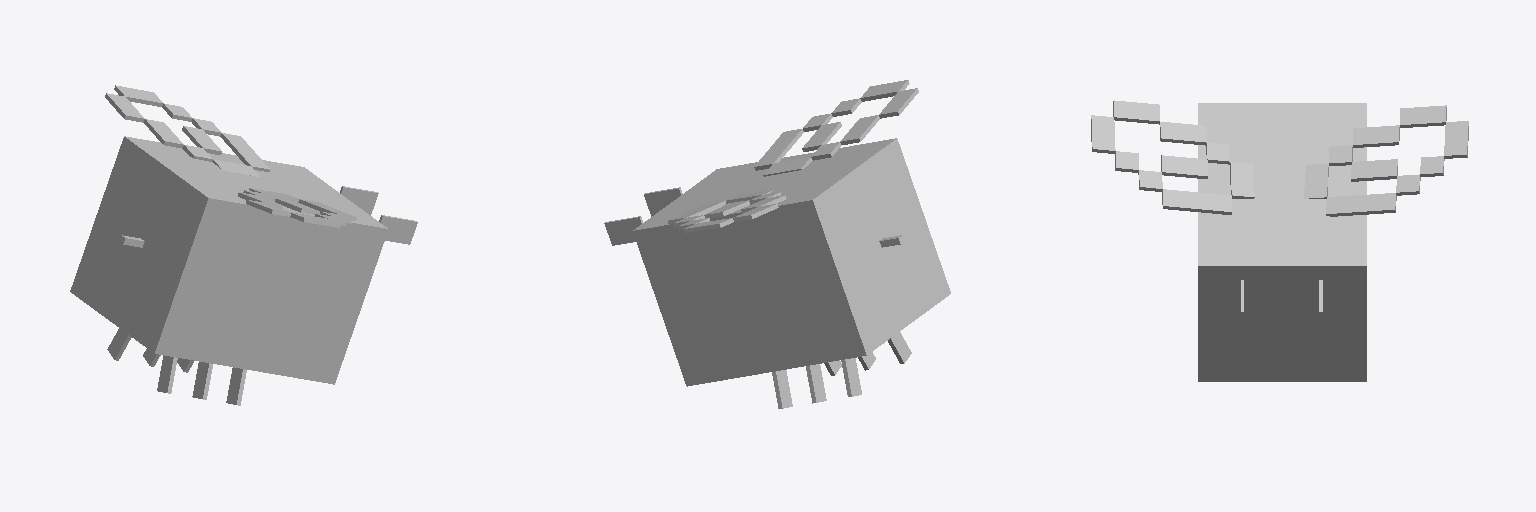
The model's file is Bee_ (234).obj.
3 renders of one model, left to right at view 1: azimuth 30°, elevation 25°; view 2: azimuth 150°, elevation 25°; view 3: azimuth 270°, elevation 25°, orthographic.
Parts seen in each view (by area): view 1: b_Bee_MAT_0, r_Bee_MAT_0, l_Bee_MAT_0; view 2: b_Bee_MAT_0, l_Bee_MAT_0, r_Bee_MAT_0; view 3: b_Bee_MAT_0, l_Bee_MAT_0, r_Bee_MAT_0.
Part boxes in pixels (left/top/right/bottom): b_Bee_MAT_0: left=70, top=136, right=417, bottom=405; r_Bee_MAT_0: left=105, top=85, right=269, bottom=176; l_Bee_MAT_0: left=238, top=188, right=356, bottom=227; b_Bee_MAT_0: left=604, top=138, right=950, bottom=408; l_Bee_MAT_0: left=754, top=80, right=918, bottom=176; r_Bee_MAT_0: left=668, top=189, right=786, bottom=233; b_Bee_MAT_0: left=1198, top=103, right=1366, bottom=381; l_Bee_MAT_0: left=1091, top=100, right=1254, bottom=214; r_Bee_MAT_0: left=1304, top=105, right=1468, bottom=216.
Size of the model in its own units: 0.3054 by 0.2525 by 0.3516.